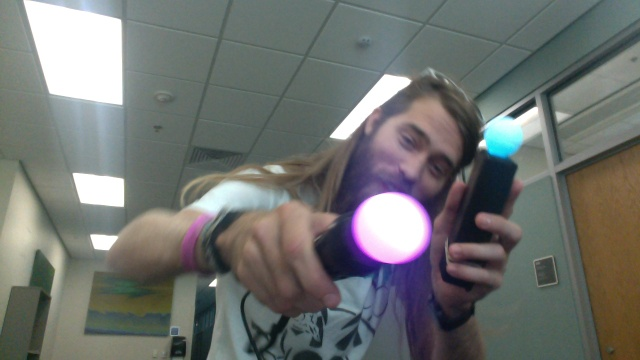wand: (353, 192, 429, 265), (484, 117, 521, 157)
